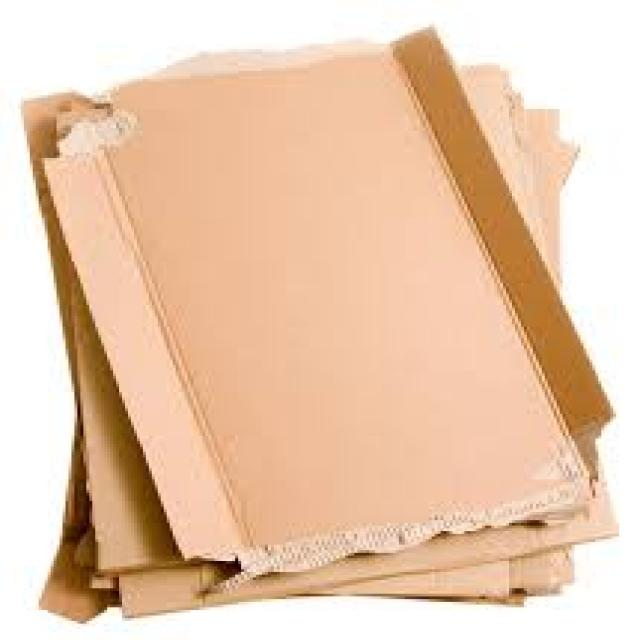cardboard: (15, 25, 613, 578), (57, 36, 601, 599), (78, 223, 575, 613), (27, 400, 122, 621), (509, 103, 560, 297), (455, 60, 518, 201)
